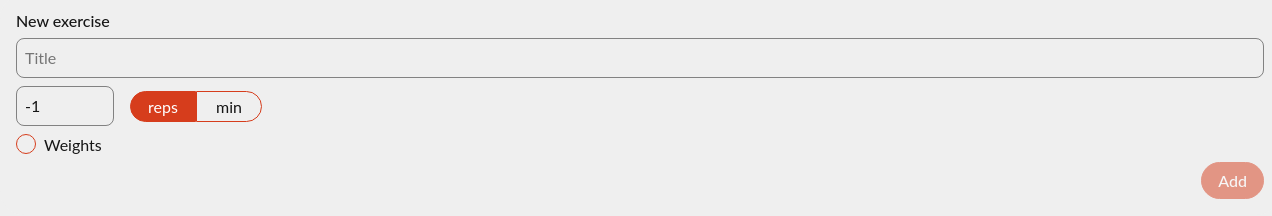
Test case: AddExercise component › disables the submit button when title or reps are missing
Expected: the button "Add" is disabled, left=1201, top=162, right=1264, bottom=199
Type "Push Ups" into the field with placeholder "Title". click: [640, 58]
box: left=16, top=38, right=1264, bottom=78
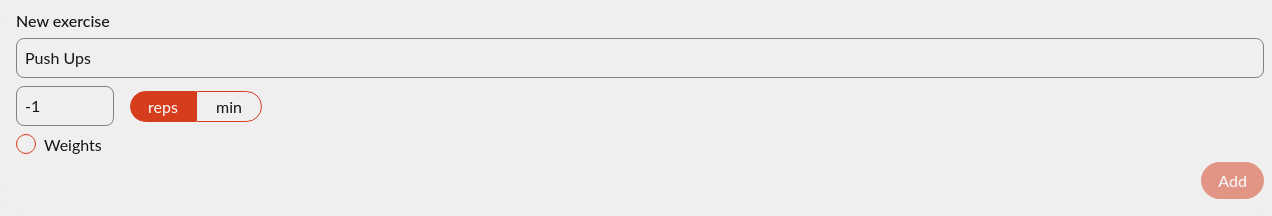
Expected: the button "Add" is disabled, left=1201, top=162, right=1264, bottom=199
Replace the text in the field with placeholder "Number of" next to "reps" with "15". click: [65, 106]
box: left=16, top=86, right=114, bottom=126
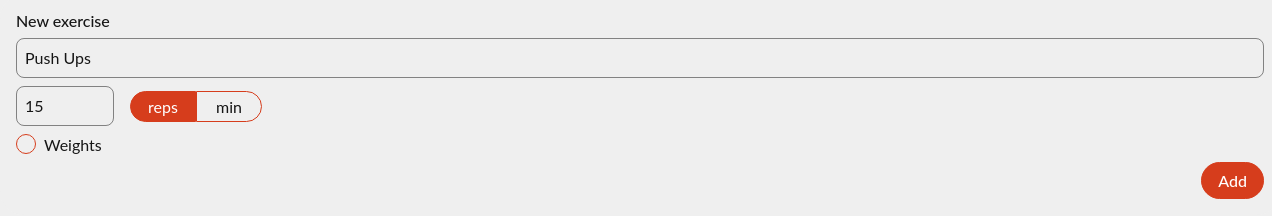
Expected: the button "Add" is enabled, left=1201, top=162, right=1264, bottom=199
